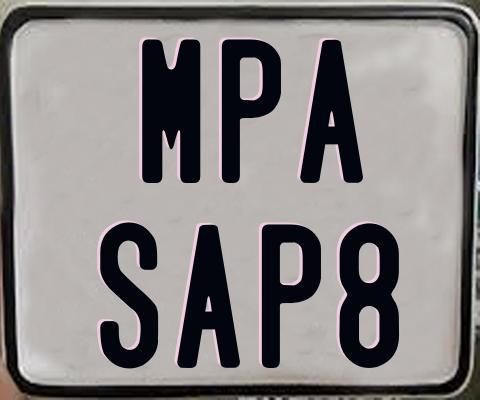8: (339, 220, 403, 370)
A: (297, 39, 365, 182), (176, 223, 239, 366)
M: (139, 36, 200, 186)
P: (260, 224, 324, 368), (220, 36, 281, 183)
S: (100, 222, 161, 370)
